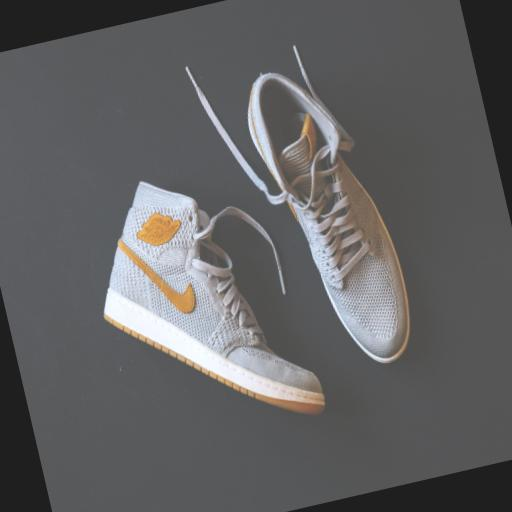shoe: (186, 48, 408, 362), (104, 183, 324, 414)
